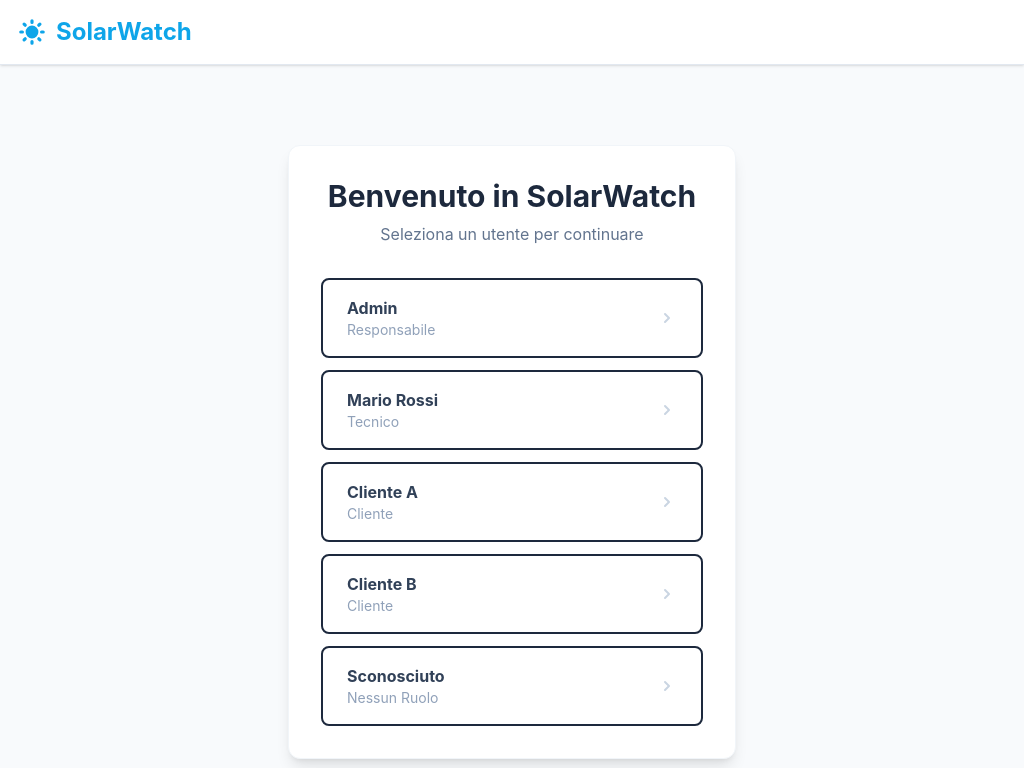
Scenario: Isolamento Impianti Cliente (US2) › Verifica che il Cliente B veda solo i propri impianti (2 su 5)
# Login Cliente B (id: 4)
Click the button with test id "login-user-4" at (382,584), box [321,554,703,634]
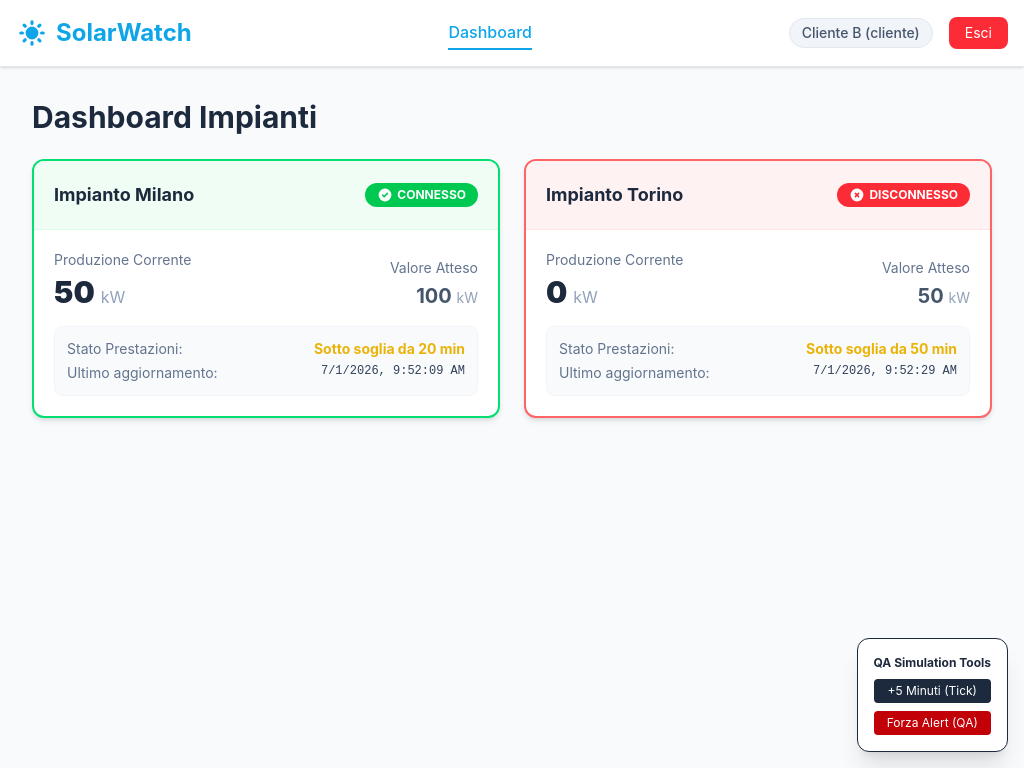
Check: the heading "Impianto Milano" is shown, box [54,181,194,209]
Check: the heading "Impianto Torino" is shown, box [546,181,683,209]
